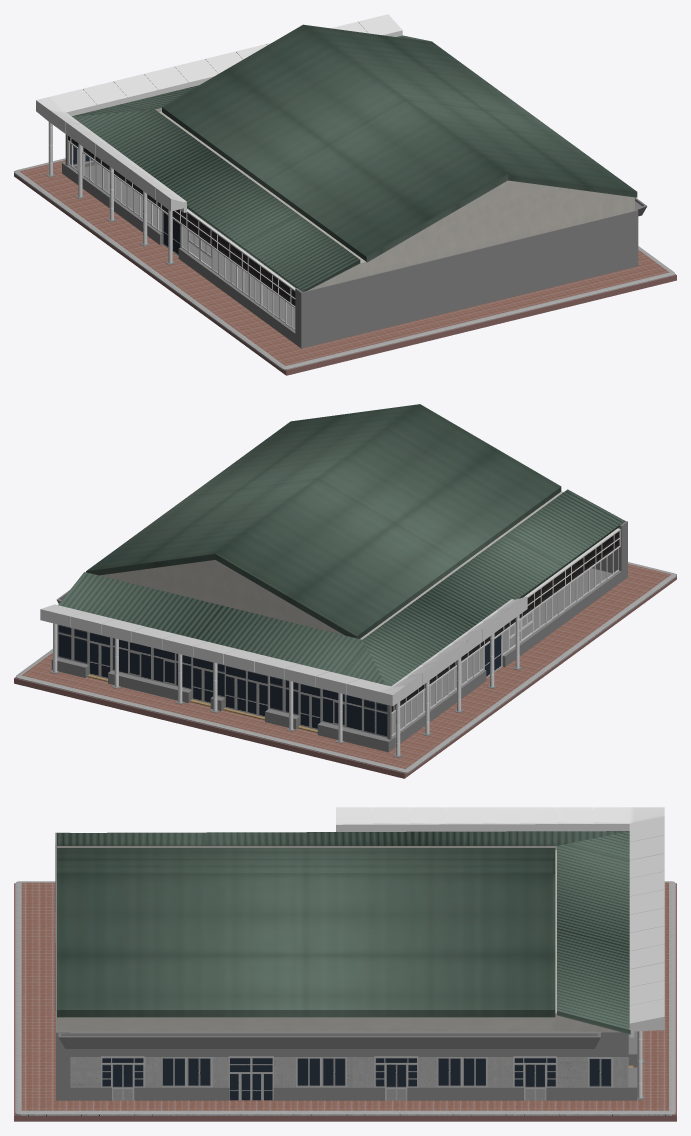
The picture shows the model from 3 angles, top to bottom: view 1: azimuth 30°, elevation 25°; view 2: azimuth 150°, elevation 25°; view 3: azimuth 270°, elevation 25°; orthographic projection. The views are drawn at different scales.
Visible parts, largest first — view 1: Canteen(Clone), Cube; view 2: Canteen(Clone), Cube; view 3: Canteen(Clone), Cube.
Part boxes in pixels (x1,y1,x2,y2): Canteen(Clone): [14, 14, 675, 370]; Cube: [14, 173, 676, 375]; Canteen(Clone): [15, 404, 676, 773]; Cube: [14, 574, 676, 778]; Canteen(Clone): [15, 807, 675, 1115]; Cube: [14, 883, 676, 1121].
Bounding box in the file's own units: 2.03 × 0.642 × 2.44.
Materials: 10 (6 with a texture image).
